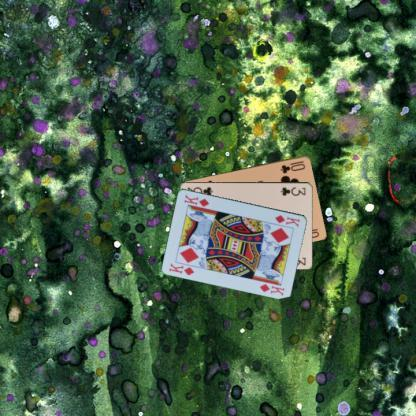10c: (277, 158, 306, 174)
3c: (278, 184, 307, 196)
Kd: (272, 212, 302, 228), (166, 260, 196, 276)
